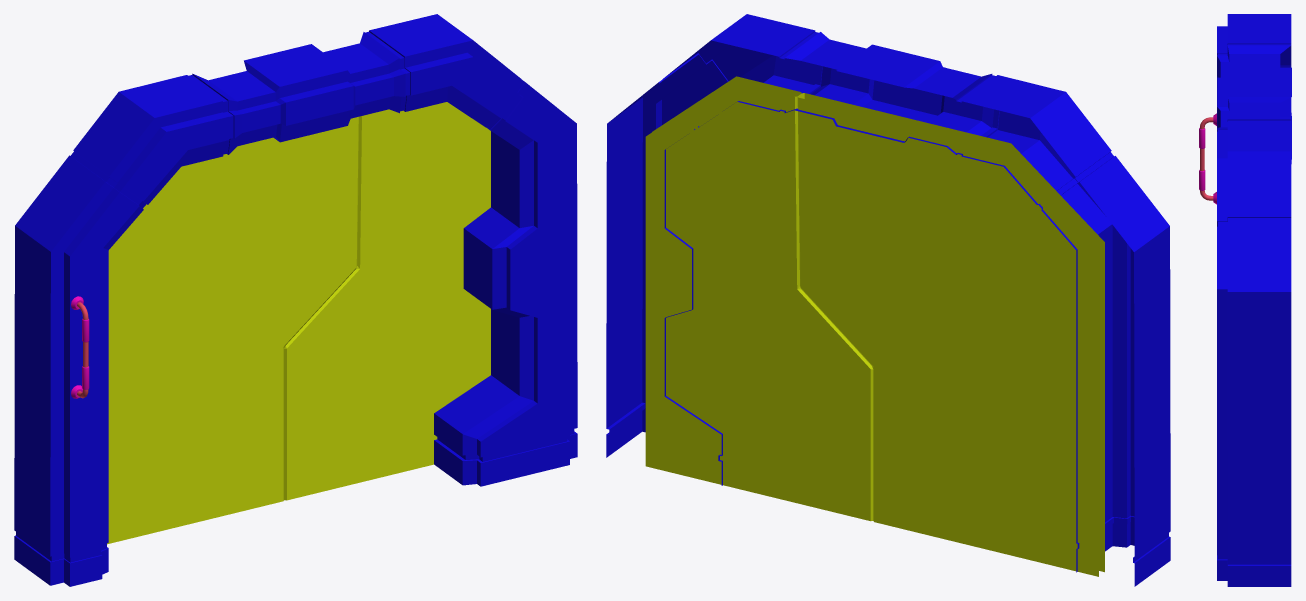
The model's file is Door.fbx.
3 renders of one model, left to right at view 1: azimuth 30°, elevation 25°; view 2: azimuth 150°, elevation 25°; view 3: azimuth 270°, elevation 25°, orthographic. The views are drawn at different scales.
Visible parts, largest first — view 1: Cylinder.006, Cylinder.005, Cylinder.004, Cylinder.007; view 2: Cylinder.005, Cylinder.004, Cylinder.006; view 3: Cylinder.006, Cylinder.007.
Part boxes in pixels (box(x1,y1,x2,y2)): Cylinder.006: box(14, 14, 577, 586); Cylinder.005: box(107, 116, 358, 544); Cylinder.004: box(284, 102, 490, 500); Cylinder.007: box(71, 296, 89, 398); Cylinder.005: box(797, 93, 1104, 576); Cylinder.004: box(645, 76, 873, 521); Cylinder.006: box(606, 14, 1170, 586); Cylinder.006: box(1217, 14, 1291, 586); Cylinder.007: box(1199, 113, 1216, 204).
Size of the model in its own units: 5.8 by 4.65 by 1.
